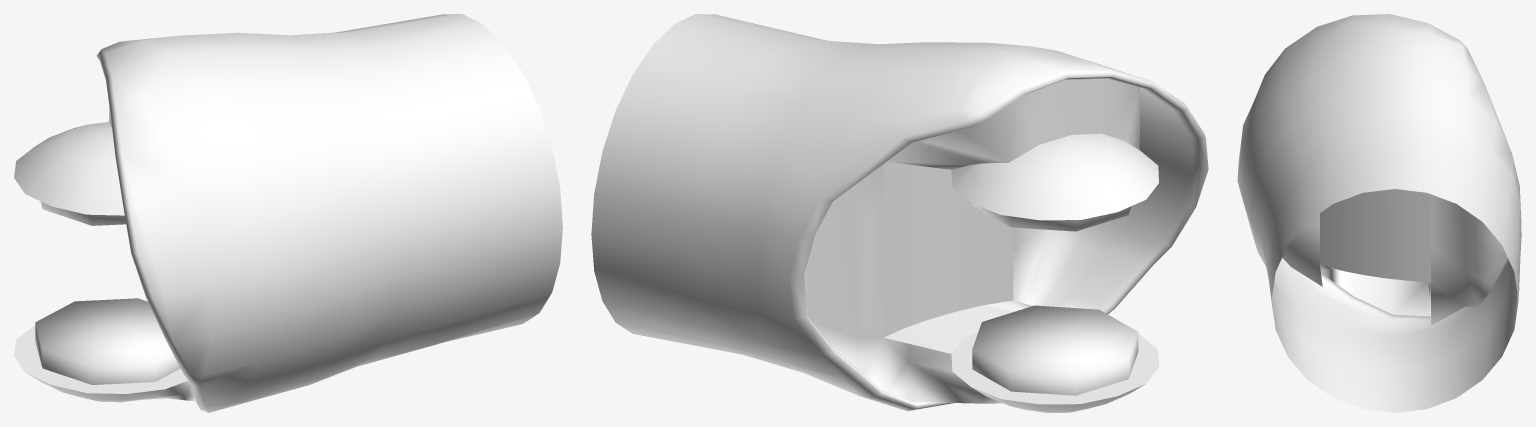
The model's file is RElbowRoll.dae.
3 views of the same model, side by side, from view 1: azimuth 30°, elevation 25°; view 2: azimuth 150°, elevation 25°; view 3: azimuth 270°, elevation 25° (orthographic). The views are drawn at different scales.
Parts seen in each view (by area): view 1: RElbowRoll; view 2: RElbowRoll; view 3: RElbowRoll.
Part boxes in pixels (box(x1,y1,x2,y2)): RElbowRoll: box(14, 14, 562, 412); RElbowRoll: box(591, 14, 1208, 412); RElbowRoll: box(1237, 14, 1521, 412).
Bounding box in the file's own units: 0.7006 × 0.4873 × 0.5139.
Materials: 1 (1 with a texture image).
